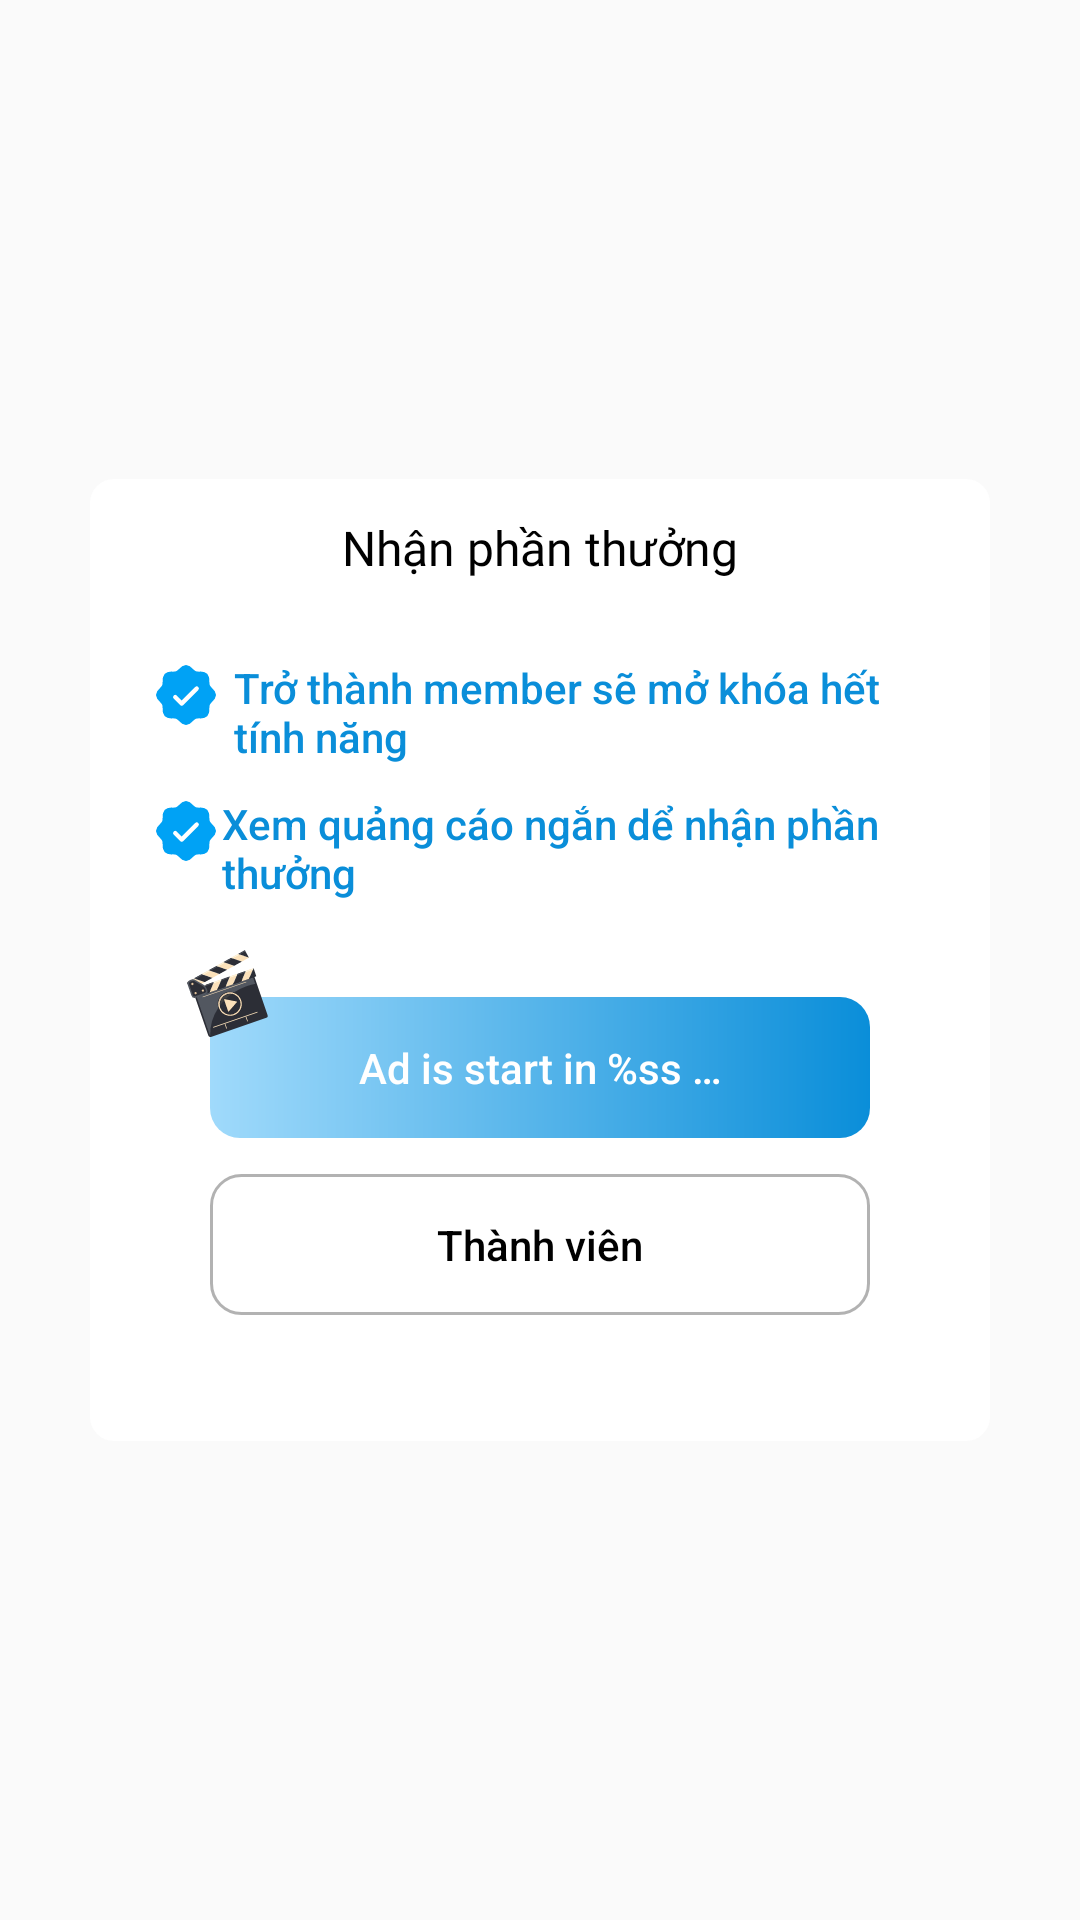

Icons on this 1080 × 1920 Android screen, each with its box as (x1,y1,x2,y2):
premium check: (156,665,216,725), (156,801,216,861)
watch ad: (187,950,270,1039)
